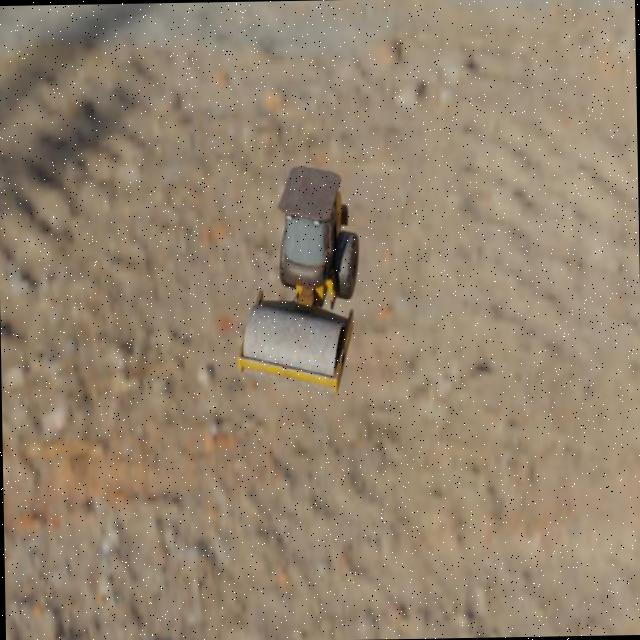Roller: (234, 164, 362, 396)
